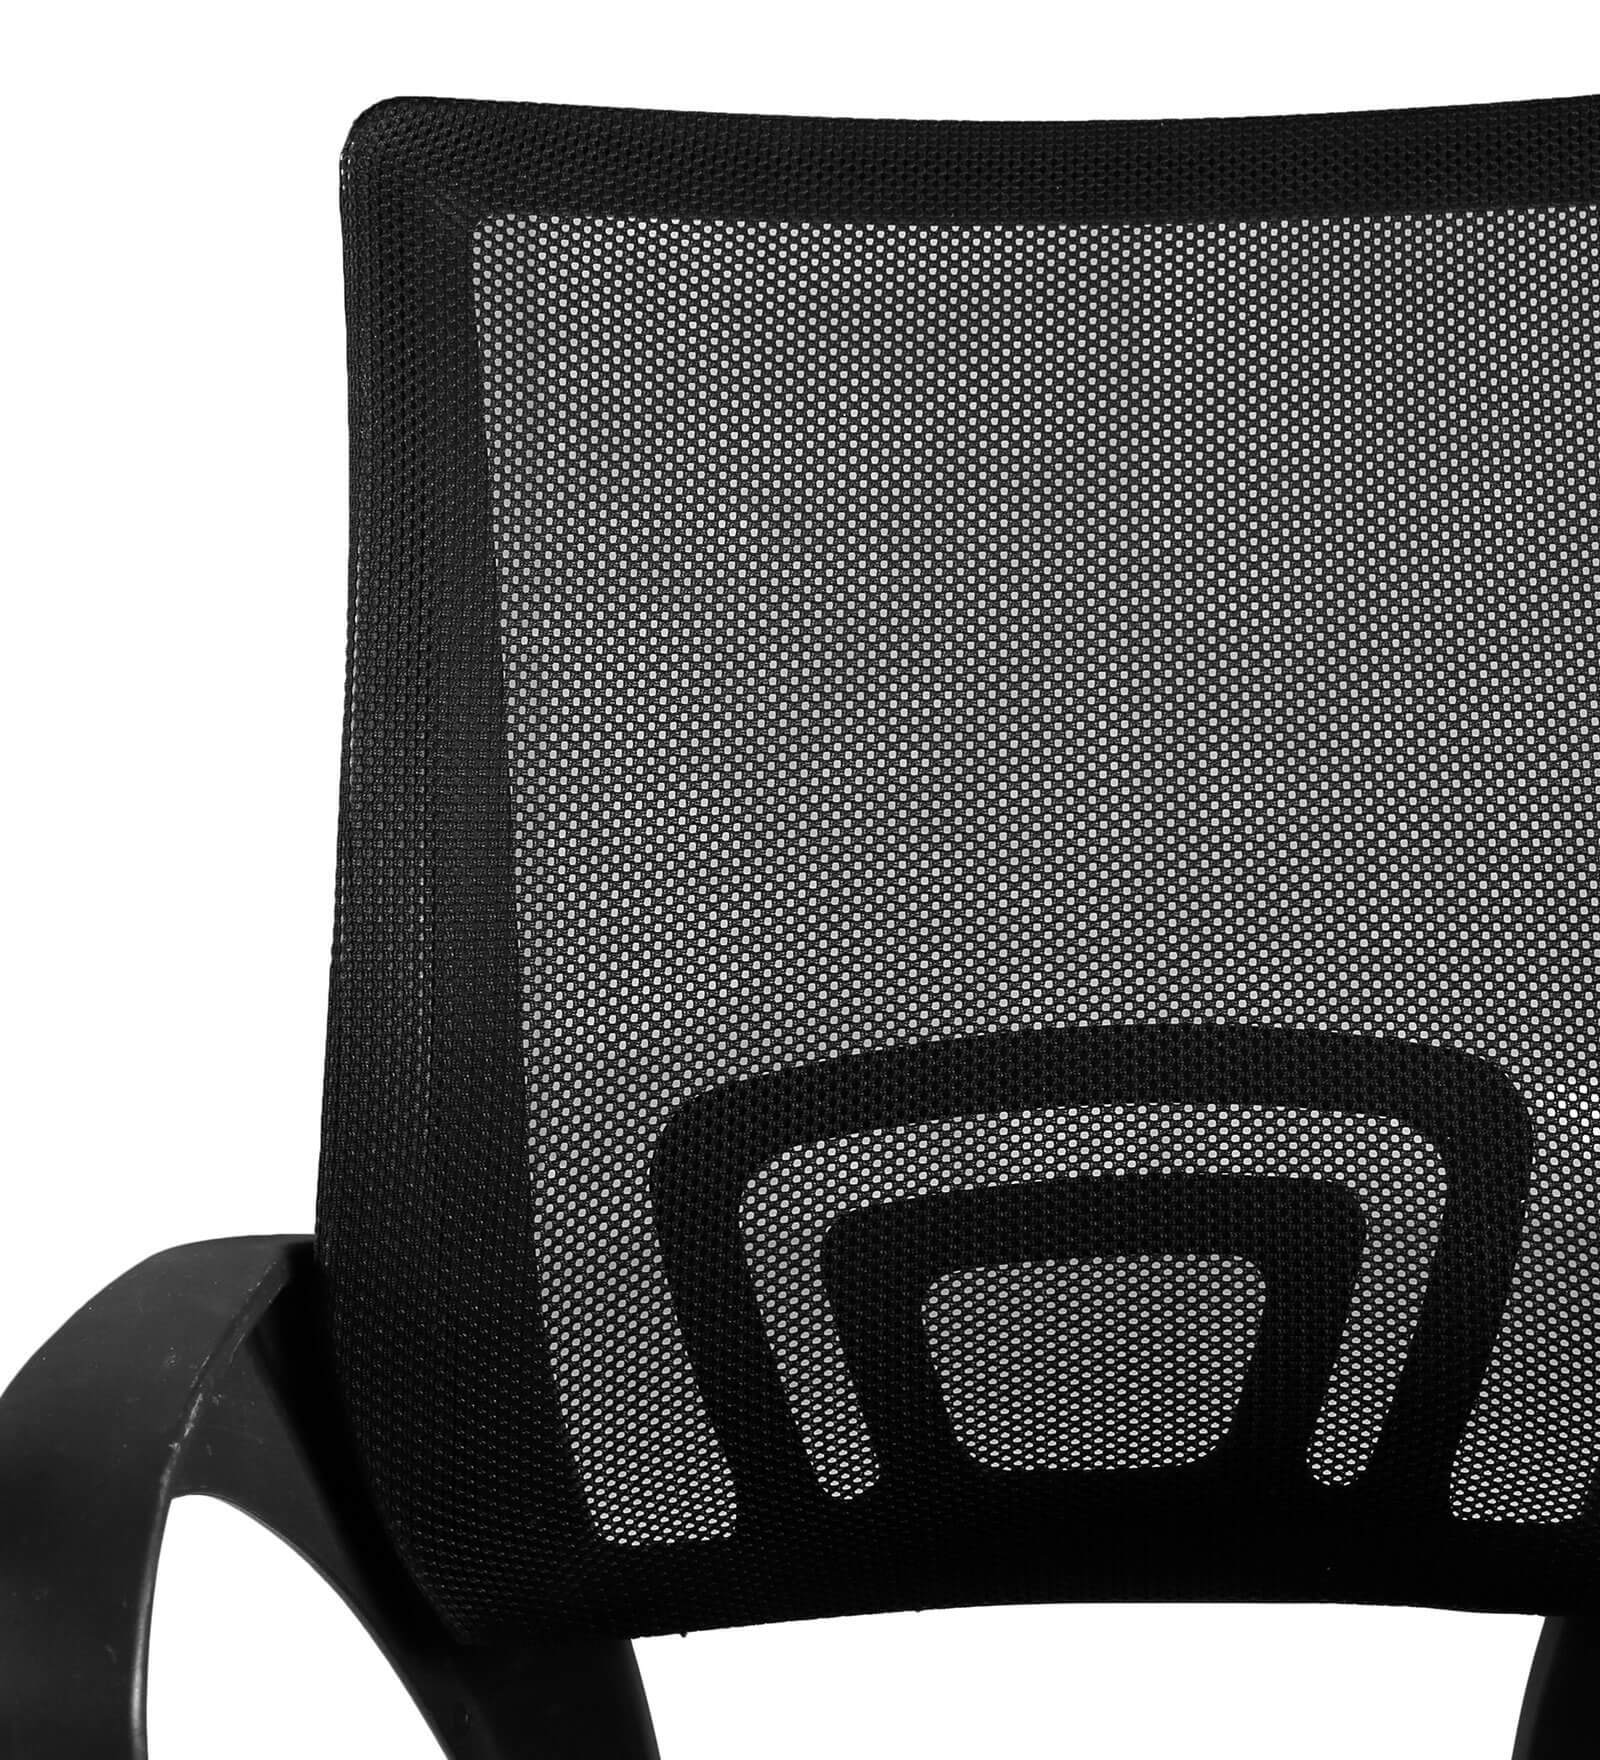Regus Low Back Mesh Chair in Green Colour by Hometown: (284, 112, 1566, 1617)
